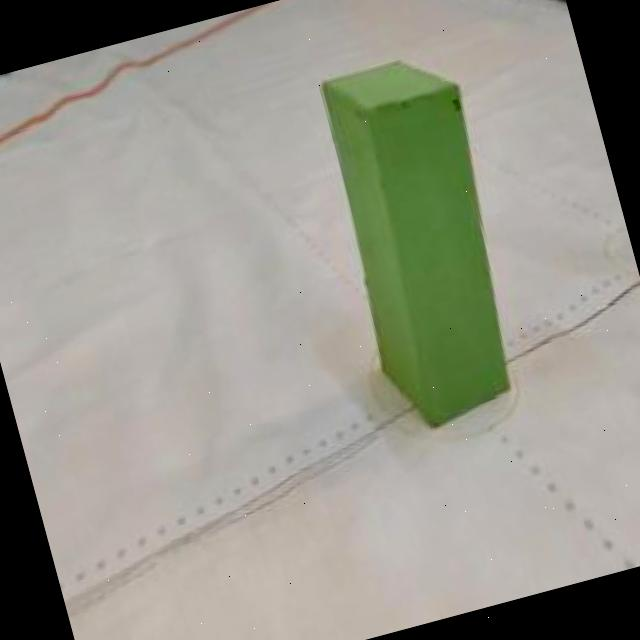greenbox: (305, 45, 540, 434)
